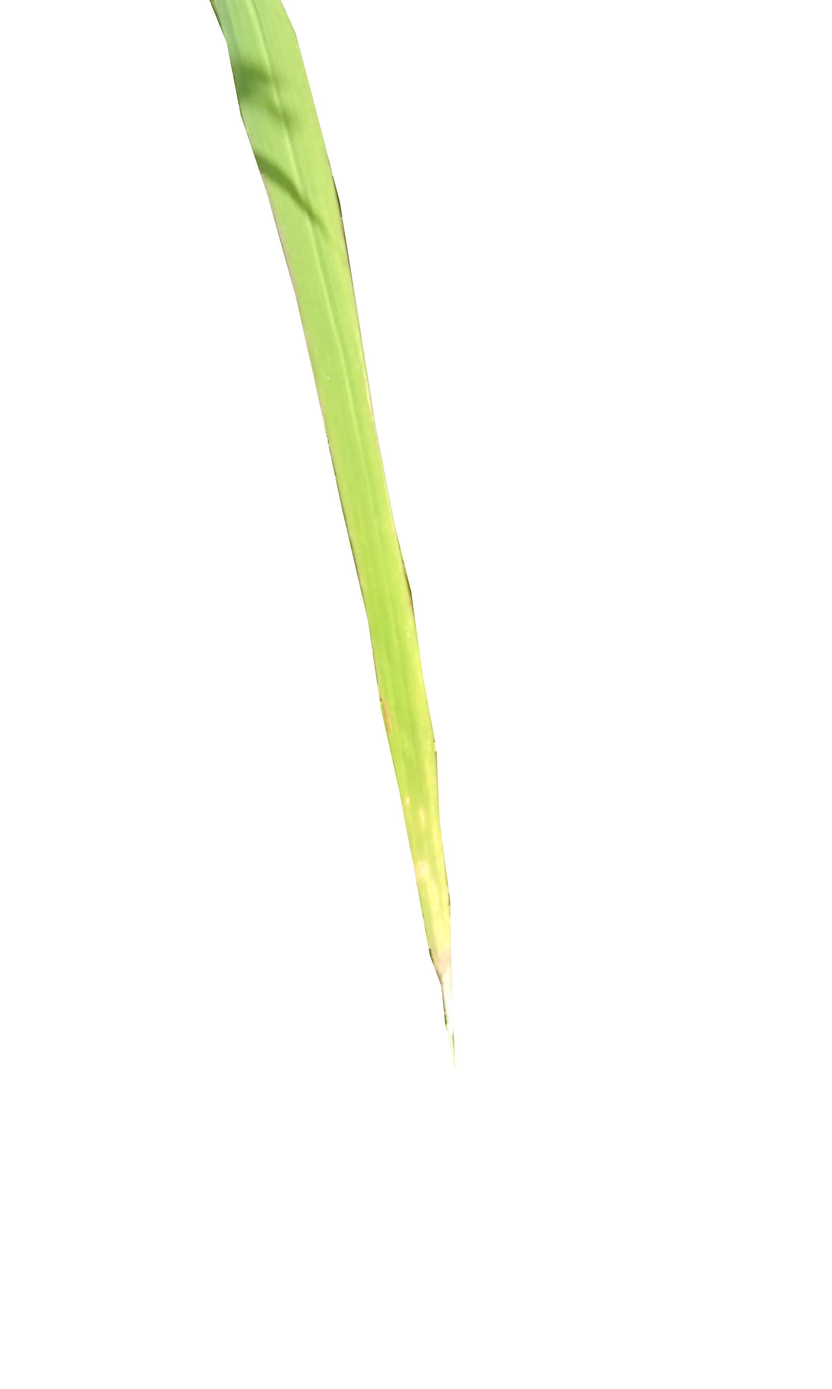Tungro: (206, 0, 456, 1043)
